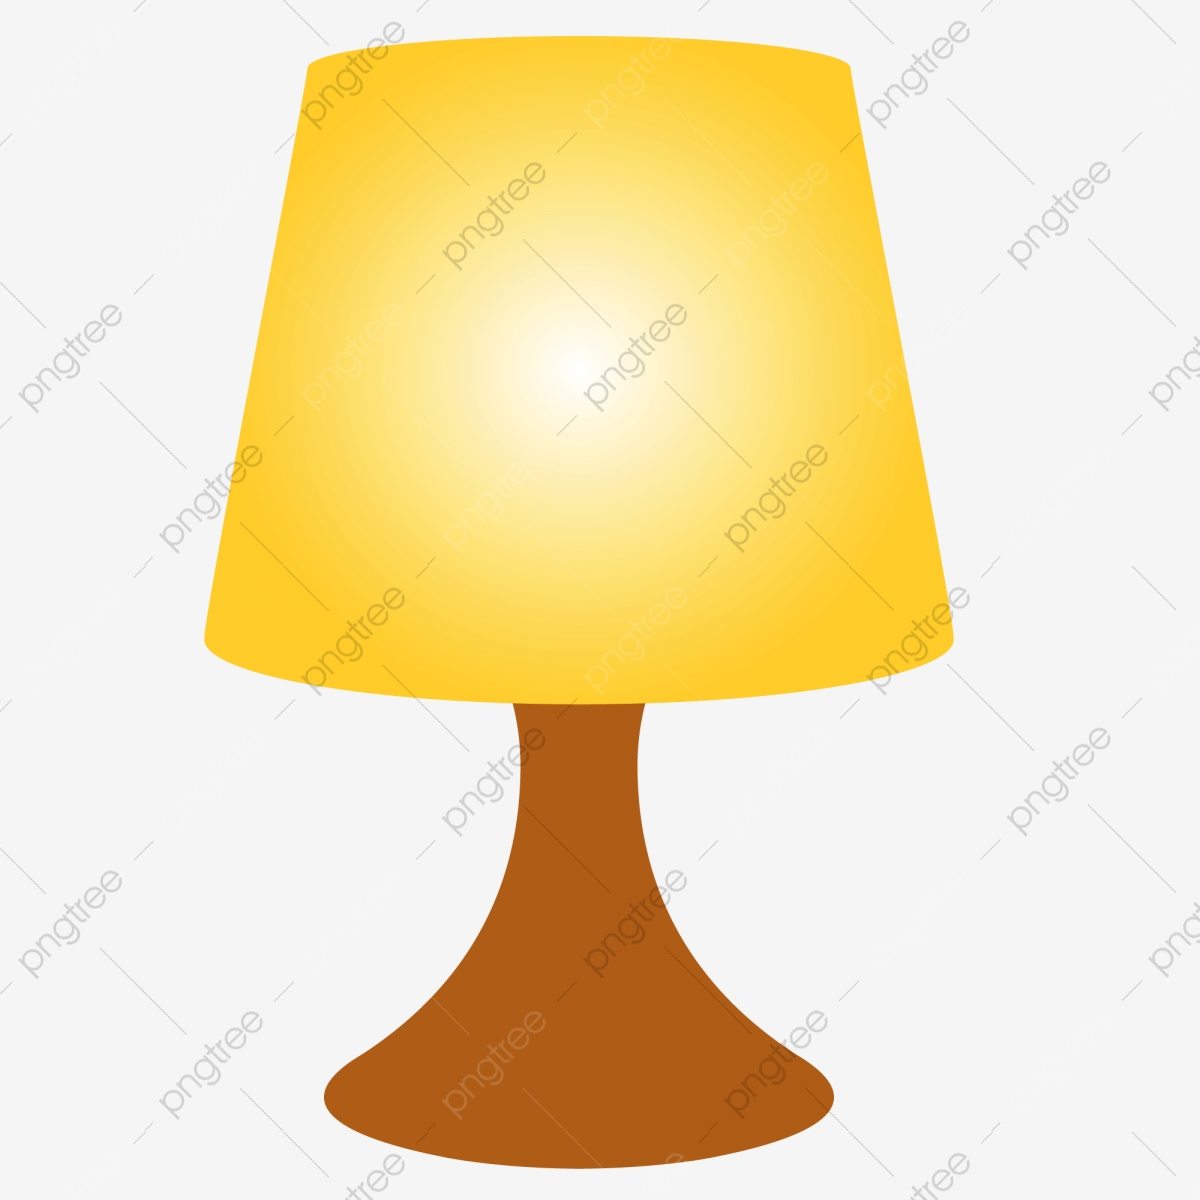lampu: (203, 33, 955, 1174)
